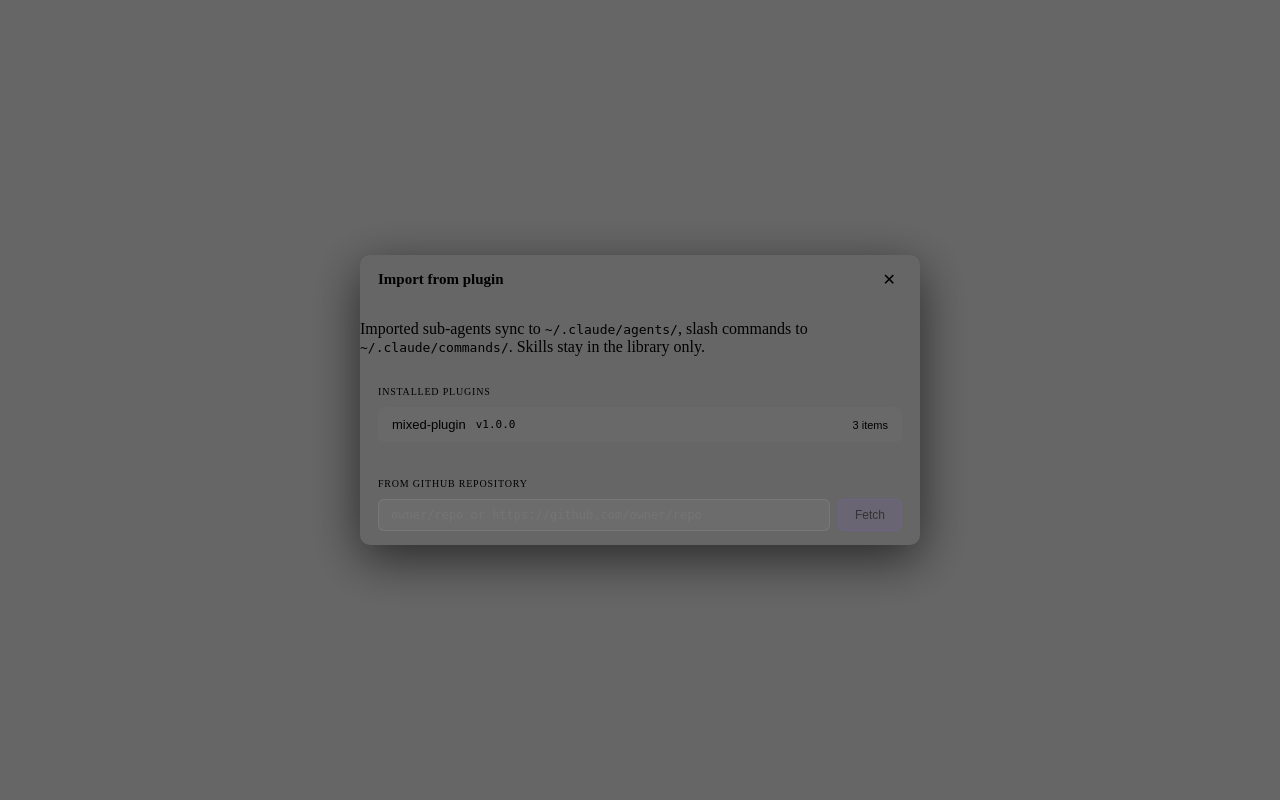
Test: ImportPluginDialog — mixed kinds › toggling one kind off does not affect the others (kind:path keying)
Expected: the text "mixed-plugin" is shown, [392, 417, 466, 432]
Click the button "mixed-plugin v1.0.0 3 items" at (429, 424), box [378, 407, 902, 442]
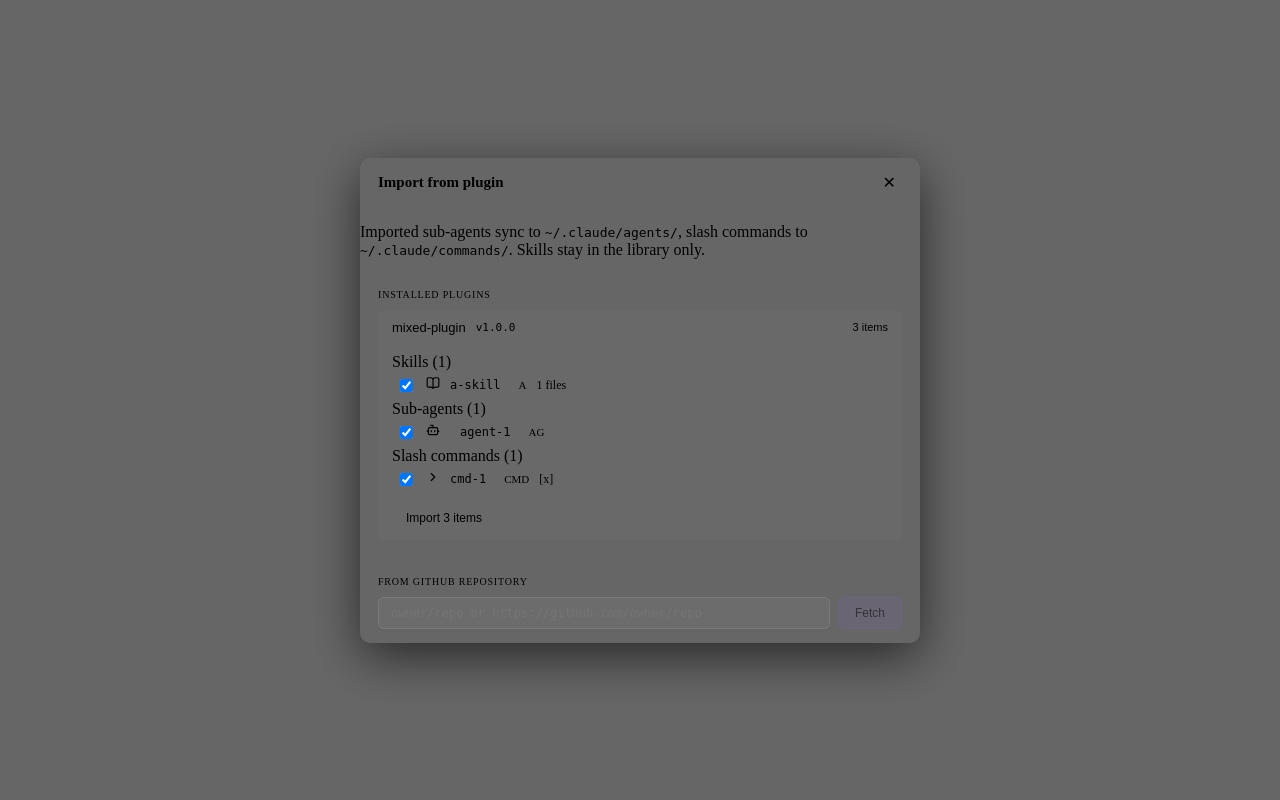
# First checkbox is the skill row (skills group renders first).
Click the checkbox labelled "a-skill A 1 files" at (406, 385), box [400, 378, 413, 392]
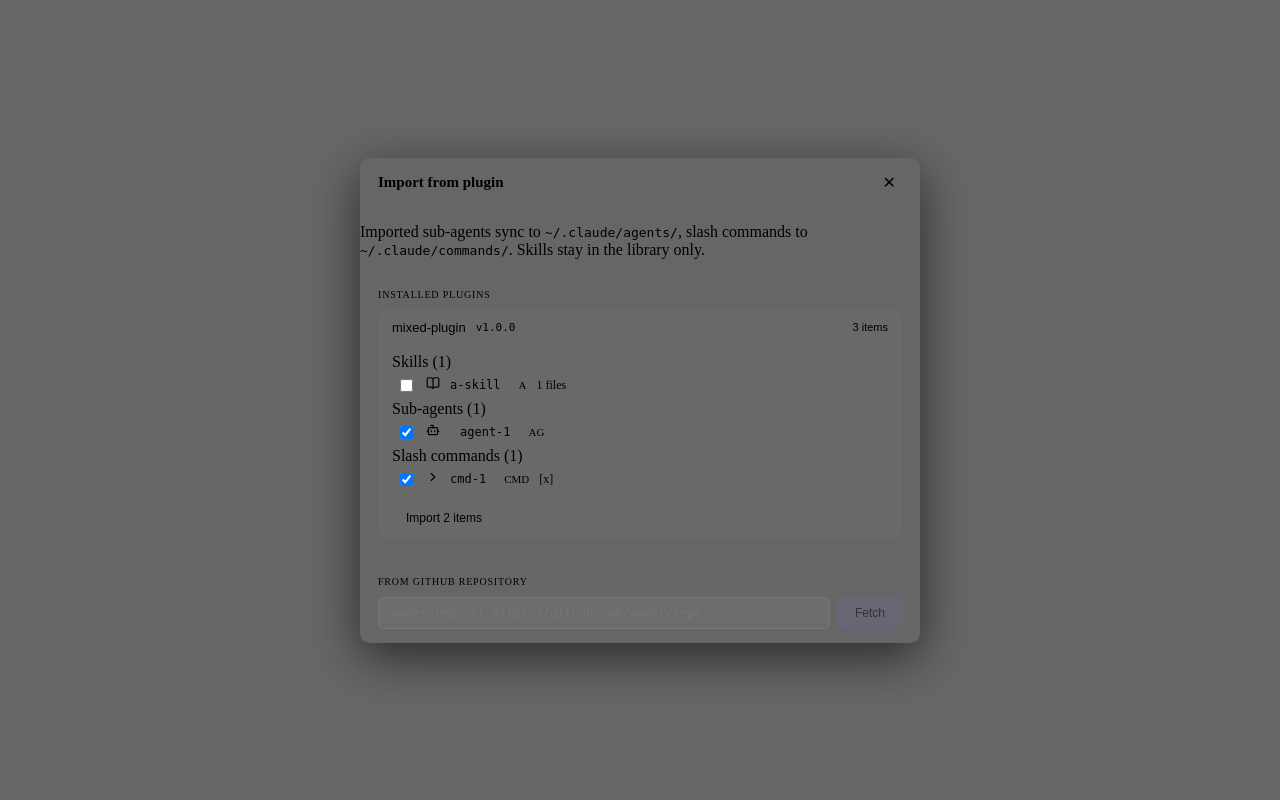
Result: the button "Import 2 items" is shown at [392, 504, 496, 532]
